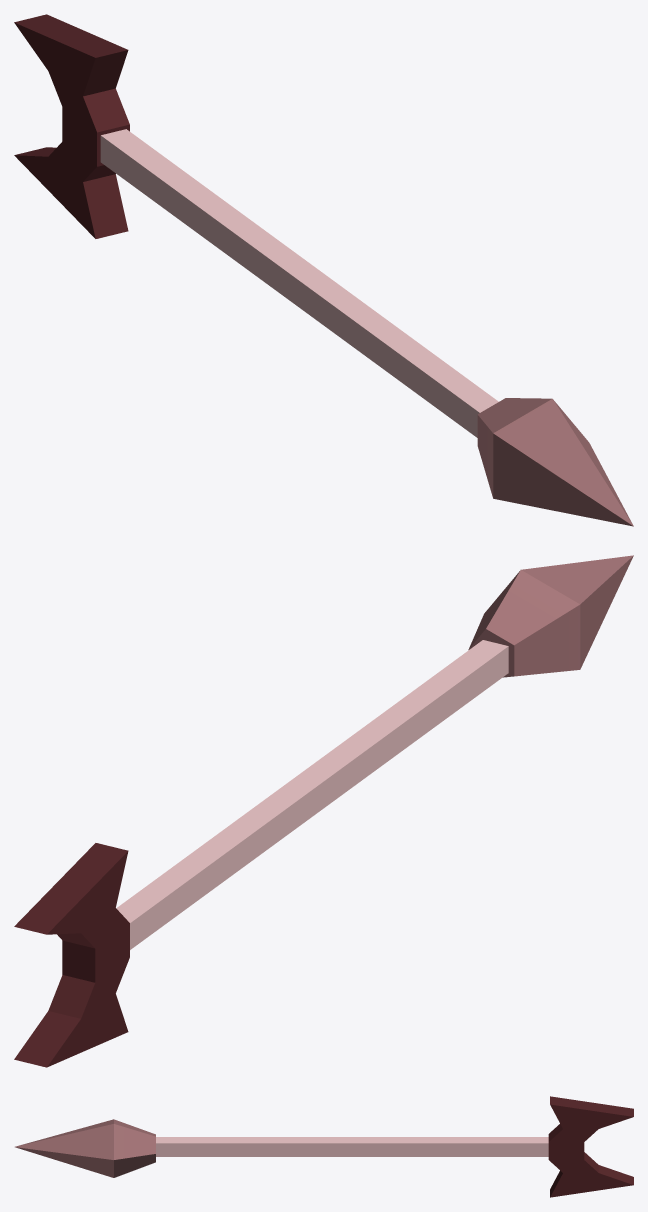
Rendered from flecha_new.fbx.
3 renders of one model, top to bottom at view 1: azimuth 30°, elevation 25°; view 2: azimuth 150°, elevation 25°; view 3: azimuth 270°, elevation 25°, orthographic. The views are drawn at different scales.
Visible parts, largest first — view 1: Flecha; view 2: Flecha; view 3: Flecha.
Part boxes in pixels (bbox=[...]): Flecha: bbox=[14, 14, 633, 526]; Flecha: bbox=[14, 555, 633, 1067]; Flecha: bbox=[15, 1096, 633, 1197].
Size of the model in its own units: 0.3134 by 0.5647 by 3.41.
